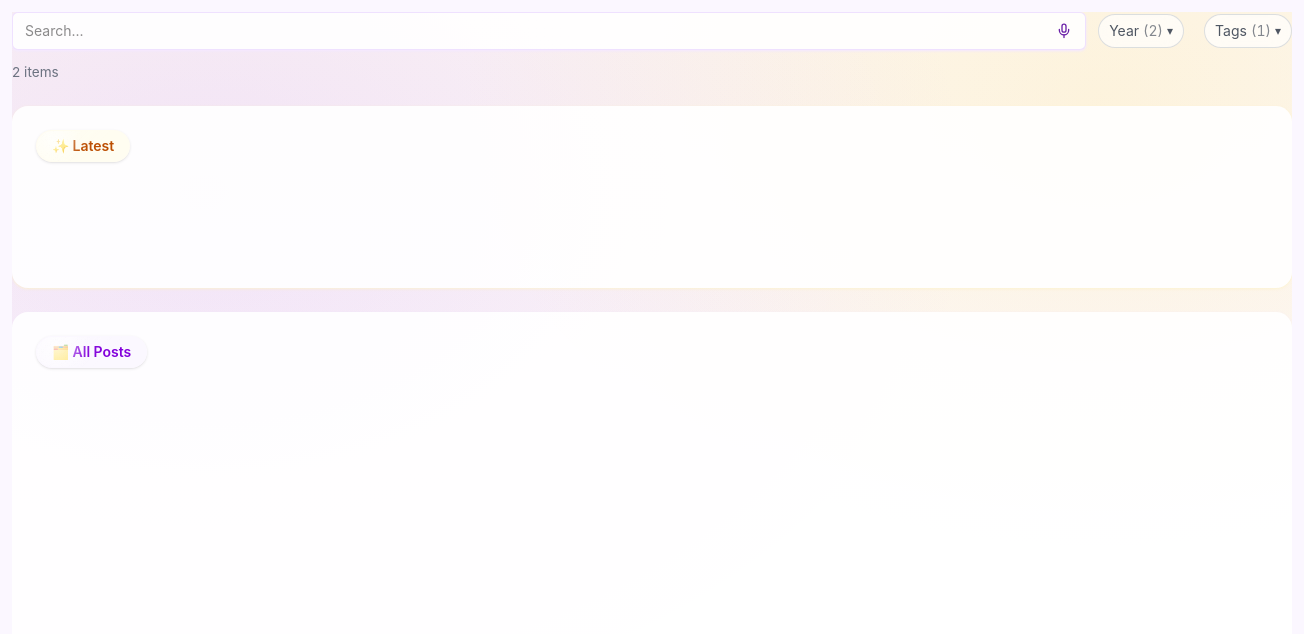
Test: BlogsClient › prefers newer posts when search relevance ties
Type "common" into the field labelled "Search..." at (549, 31), box top-left (12, 12), bottom-right (1086, 50)
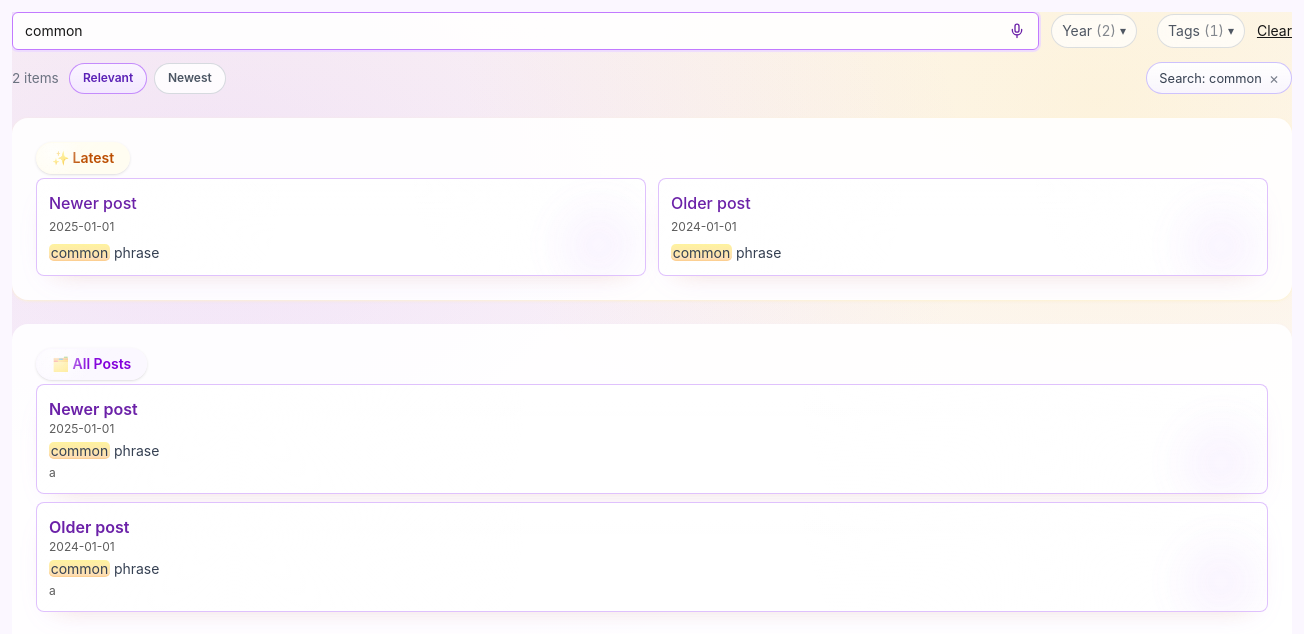
Now the link "Newer post" below "🗂 All Posts" is shown, box top-left (49, 399), bottom-right (138, 419)
Now the link "Older post" below "🗂 All Posts" is shown, box top-left (49, 517), bottom-right (130, 537)
